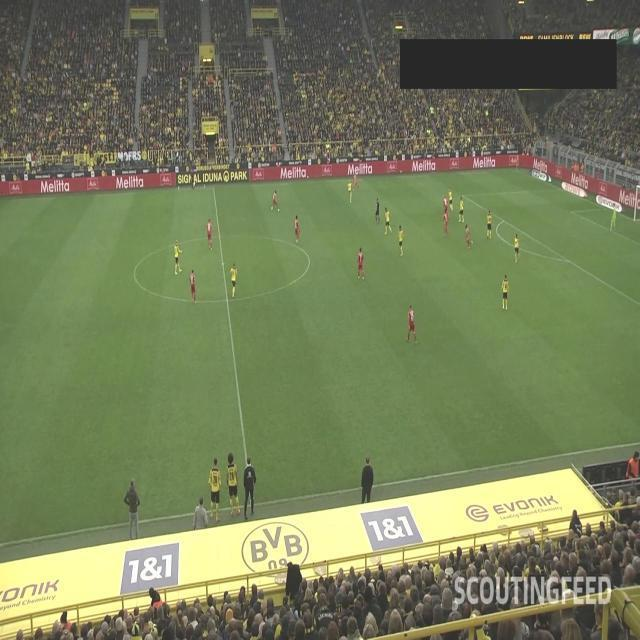team1: (406, 304, 418, 343), (357, 247, 365, 281), (190, 268, 197, 305), (206, 218, 214, 250), (443, 210, 450, 238), (464, 224, 472, 248), (272, 189, 280, 212), (294, 215, 300, 245), (352, 172, 360, 192), (442, 194, 448, 218)
team2: (208, 457, 222, 523), (227, 452, 240, 517), (500, 274, 510, 310), (174, 238, 182, 276), (230, 262, 238, 298), (384, 206, 392, 235), (398, 224, 404, 256), (486, 209, 492, 240), (514, 233, 520, 263), (458, 195, 464, 222), (347, 181, 353, 203), (448, 186, 453, 212)
